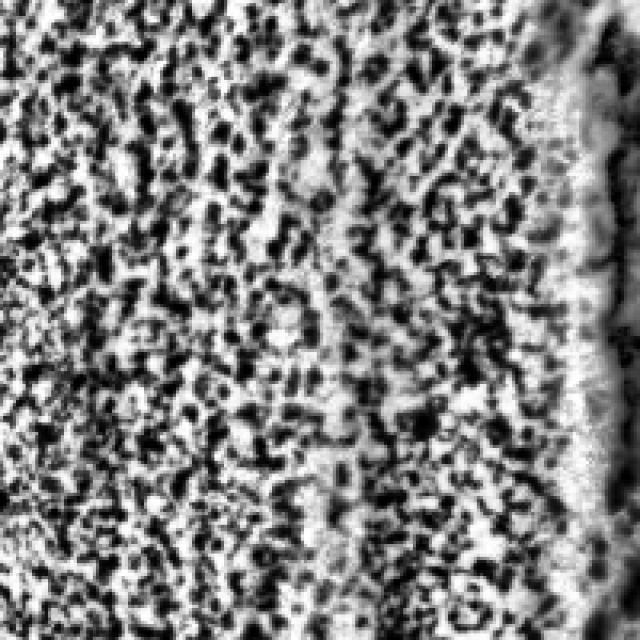Rolled_in_Scale: (0, 0, 570, 621)
Scratches: (540, 0, 630, 208)
